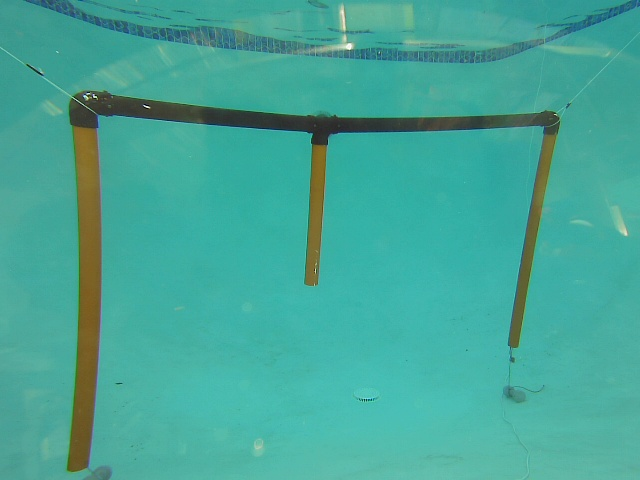Gate: (60, 122, 106, 475), (502, 130, 559, 353), (300, 136, 330, 291)
